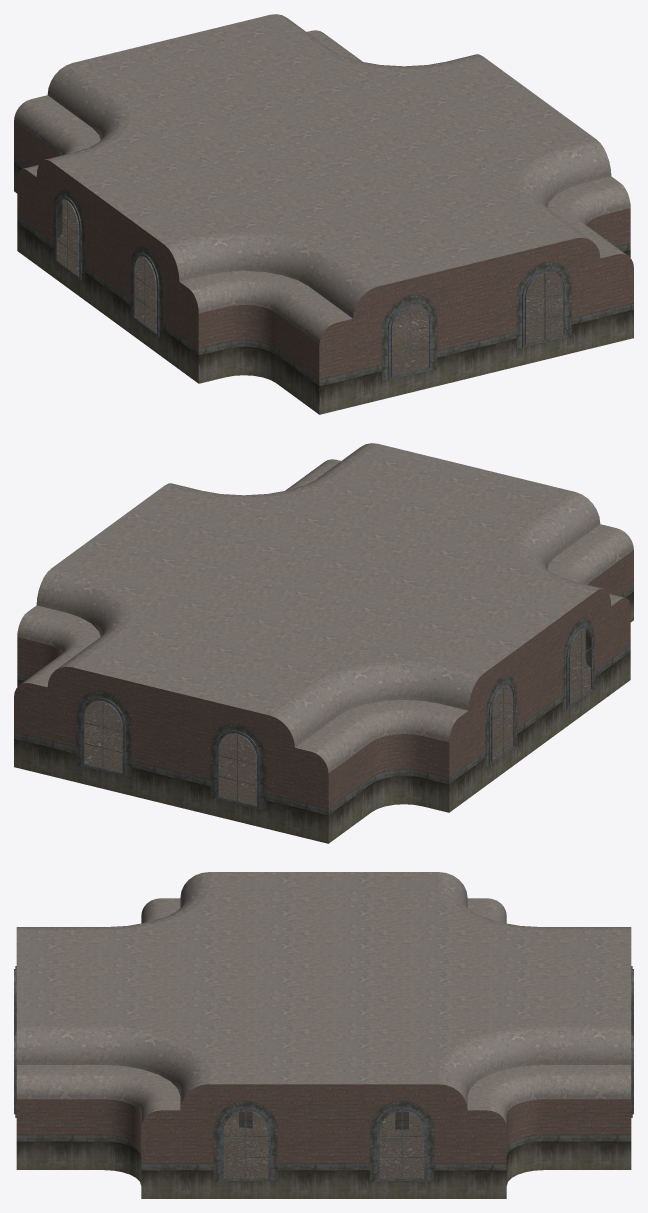
Rendered from map01.glb.
The picture shows the model from 3 angles, top to bottom: view 1: azimuth 30°, elevation 25°; view 2: azimuth 150°, elevation 25°; view 3: azimuth 270°, elevation 25°; orthographic projection.
Parts seen in each view (by area): view 1: Material2 (×6); view 2: Material2 (×6); view 3: Material2 (×6).
Boxes of the visible parts, x1,y1,x2,y2 form: Material2 (×6): (14, 14, 633, 414); Material2 (×6): (14, 443, 633, 843); Material2 (×6): (14, 872, 633, 1198).
Bounding box in the file's own units: 623 × 163 × 762.
6 materials, 5 textured.
